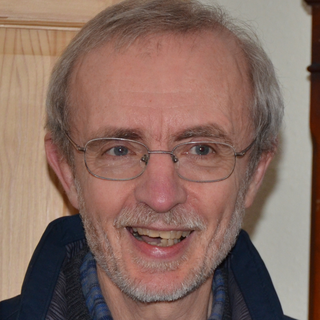eye: (94, 141, 139, 164), (176, 141, 221, 161)
